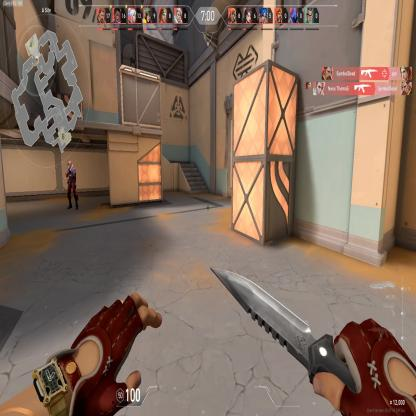enemy: (64, 158, 80, 210)
